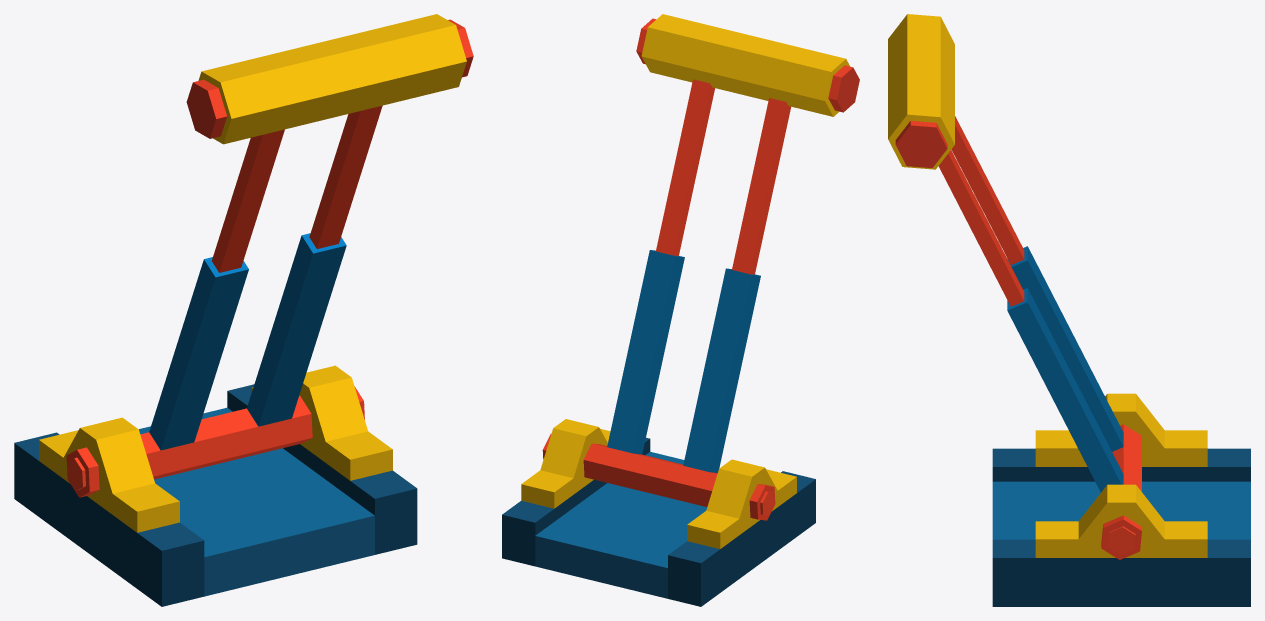
Rendered from Lever_Genesis.glb.
3 views of the same model, side by side, from view 1: azimuth 30°, elevation 25°; view 2: azimuth 150°, elevation 25°; view 3: azimuth 270°, elevation 25° (orthographic). The views are drawn at different scales.
Parts seen in each view (by area): view 1: Lever, LeverBase; view 2: Lever, LeverBase; view 3: LeverBase, Lever.
Boxes of the visible parts, bbox=[...] form: Lever: bbox=[66, 14, 473, 497]; LeverBase: bbox=[14, 365, 417, 606]; Lever: bbox=[542, 14, 859, 520]; LeverBase: bbox=[502, 419, 815, 606]; LeverBase: bbox=[992, 393, 1250, 606]; Lever: bbox=[888, 14, 1141, 559].
Size of what is drawn, in the model's own units: 0.6471 by 1.23 by 0.825.
Materials: 1 (1 with a texture image).
